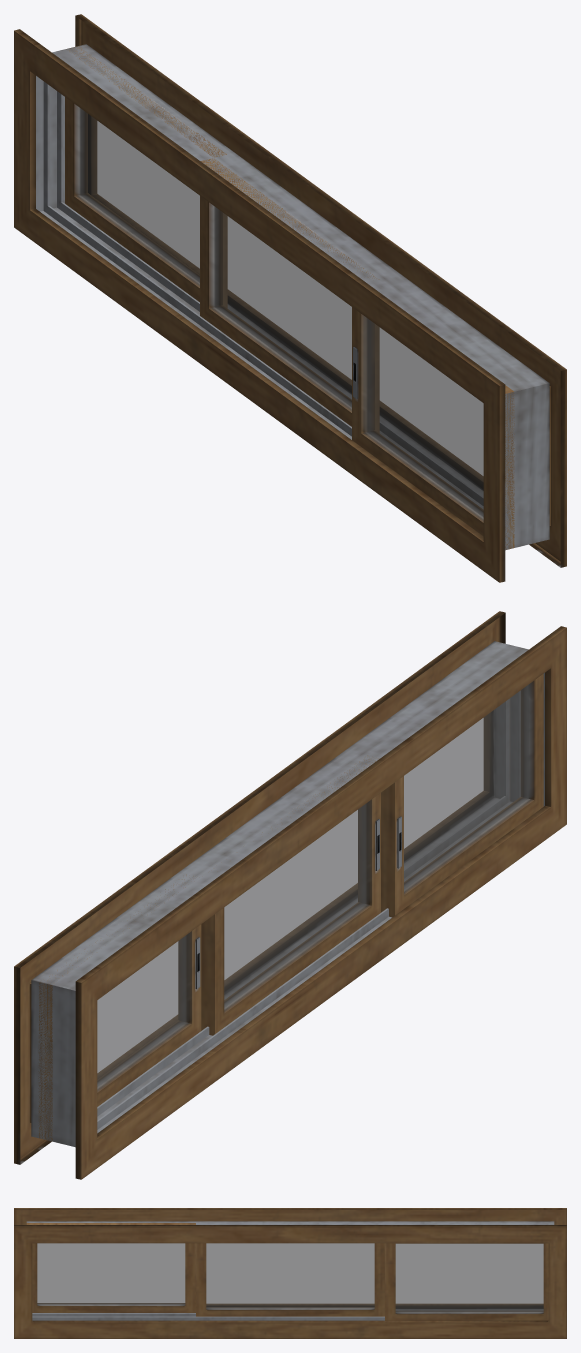
File: Window H.fbx
3 renders of one model, top to bottom at view 1: azimuth 30°, elevation 25°; view 2: azimuth 150°, elevation 25°; view 3: azimuth 270°, elevation 25°, orthographic. The views are drawn at different scales.
Visible parts, largest first — view 1: Window_Frame, Window_3, Window_1, Window_2; view 2: Window_Frame, Window_1, Window_3, Window_2; view 3: Window_Frame, Window_3, Window_2, Window_1.
Boxes of the visible parts, box(x1,y1,x2,y2) form: Window_Frame: box(14, 14, 566, 582); Window_3: box(200, 158, 379, 432); Window_1: box(352, 307, 514, 549); Window_2: box(65, 46, 227, 307); Window_Frame: box(14, 611, 566, 1179); Window_1: box(381, 674, 543, 917); Window_3: box(201, 755, 380, 1035); Window_2: box(38, 874, 201, 1140); Window_Frame: box(14, 1208, 566, 1338); Window_3: box(196, 1243, 384, 1316); Window_2: box(385, 1243, 548, 1320); Window_1: box(26, 1223, 195, 1312).
Bounding box in the file's own units: 24.37 × 68 × 304.
